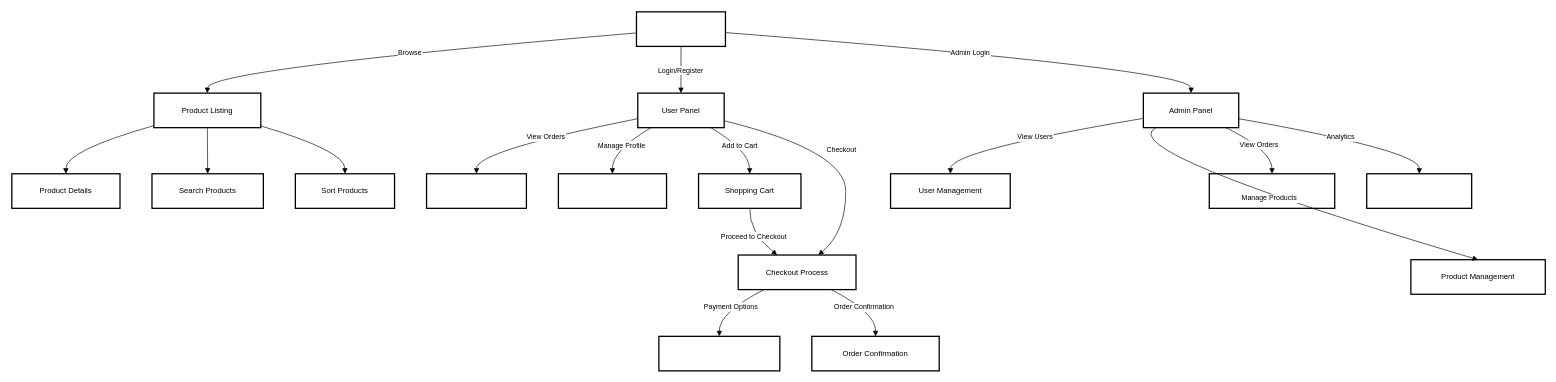
Some shapes in this 1556 by 382 pixel diagram are drawn without their labels. The box of each missing label's shape, as (x1, y1, x2, y2) in pixels:
Home Page: (636, 11, 726, 47)
Order History: (426, 173, 527, 209)
Order Management: (1208, 173, 1335, 209)
Payment Gateway: (658, 335, 780, 371)
Profile Settings: (557, 173, 667, 209)
Sales Analytics: (1366, 173, 1472, 209)
